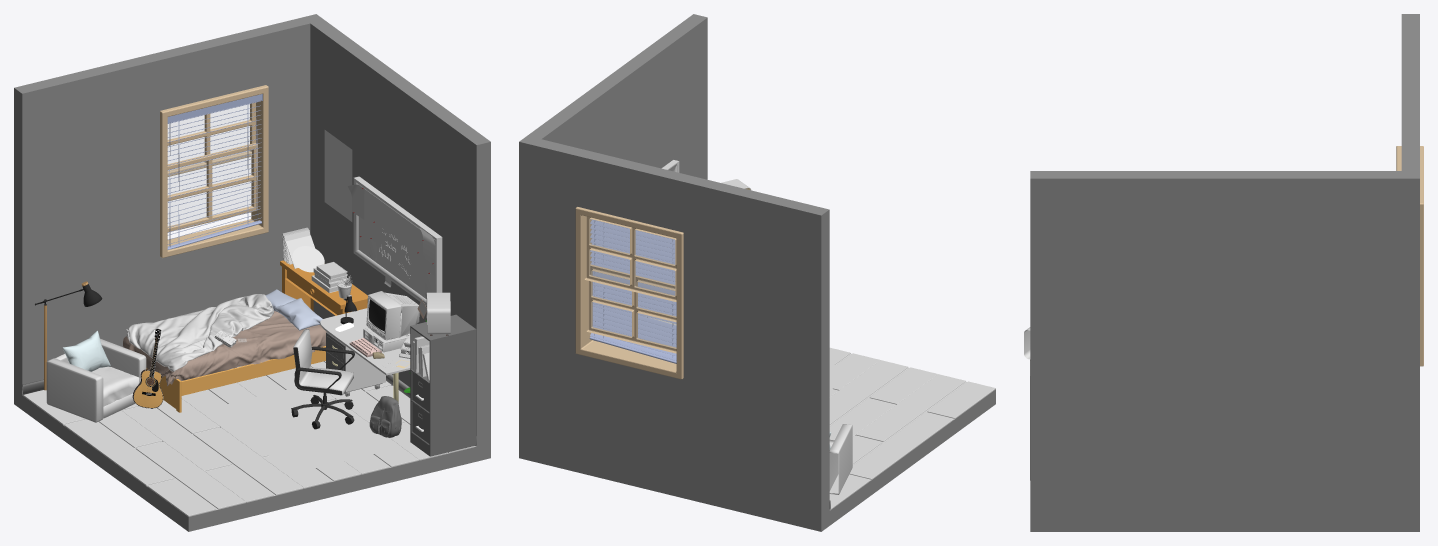
Rendered from bekedPortfolio7.glb.
3 views of the same model, side by side, from view 1: azimuth 30°, elevation 25°; view 2: azimuth 150°, elevation 25°; view 3: azimuth 270°, elevation 25° (orthographic). The views are drawn at different scales.
Visible parts, largest first — view 1: floorWalls, window, carpet, fileCabinet, smallCouch, Duvet, board, Sheet, desk, chair, pc, bedFrame (+11 smaller); view 2: floorWalls, window, smallCouch; view 3: floorWalls, window.
Boxes of the visible parts, x1=… form: floorWalls: x1=14, y1=14, x2=490, y2=531; window: x1=160, y1=85, x2=268, y2=257; carpet: x1=206, y1=387, x2=392, y2=473; fileCabinet: x1=410, y1=314, x2=476, y2=456; smallCouch: x1=46, y1=330, x2=146, y2=422; Duvet: x1=126, y1=294, x2=273, y2=371; board: x1=353, y1=176, x2=442, y2=306; Sheet: x1=123, y1=311, x2=326, y2=386; desk: x1=320, y1=308, x2=410, y2=403; chair: x1=291, y1=329, x2=354, y2=429; pc: x1=363, y1=291, x2=419, y2=352; bedFrame: x1=146, y1=346, x2=325, y2=412; floorWalls: x1=519, y1=14, x2=995, y2=531; window: x1=575, y1=207, x2=683, y2=379; smallCouch: x1=829, y1=424, x2=852, y2=494; floorWalls: x1=1030, y1=14, x2=1419, y2=531; window: x1=1396, y1=146, x2=1423, y2=366.
Bounding box in the file's own units: 4 × 4 × 4.1.
